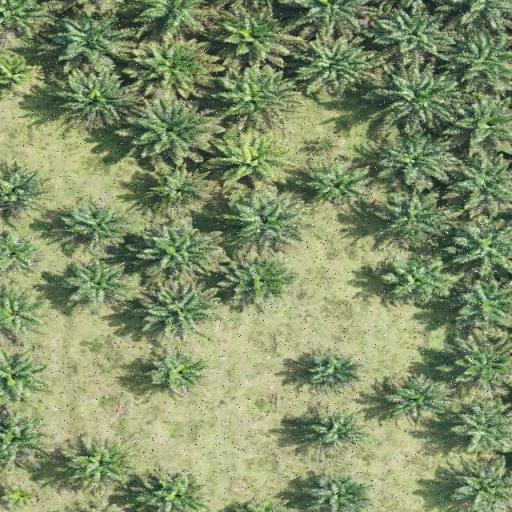Ganoderma: (222, 141, 284, 179)
